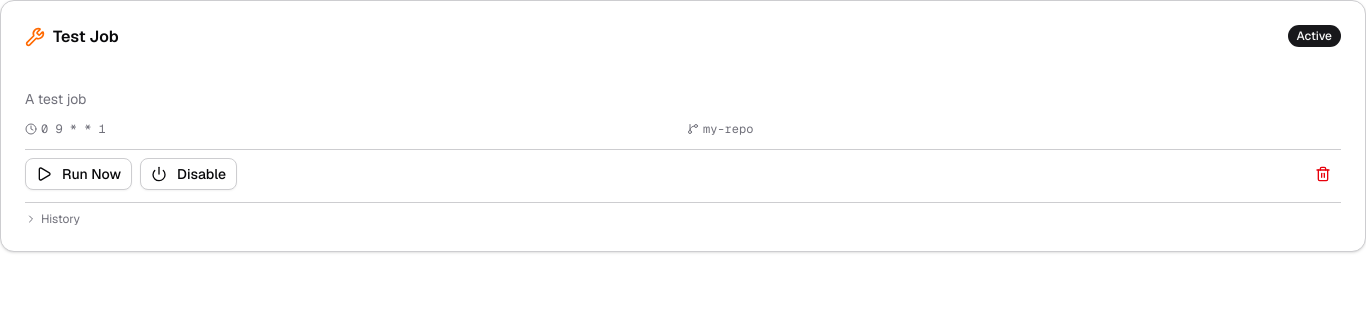
Scenario: job-card.tsx branch coverage › line 140: renders history items when available
This screenshot has width=1366, height=310.
Click the button "History" at (60, 219), box [25, 211, 1341, 227]
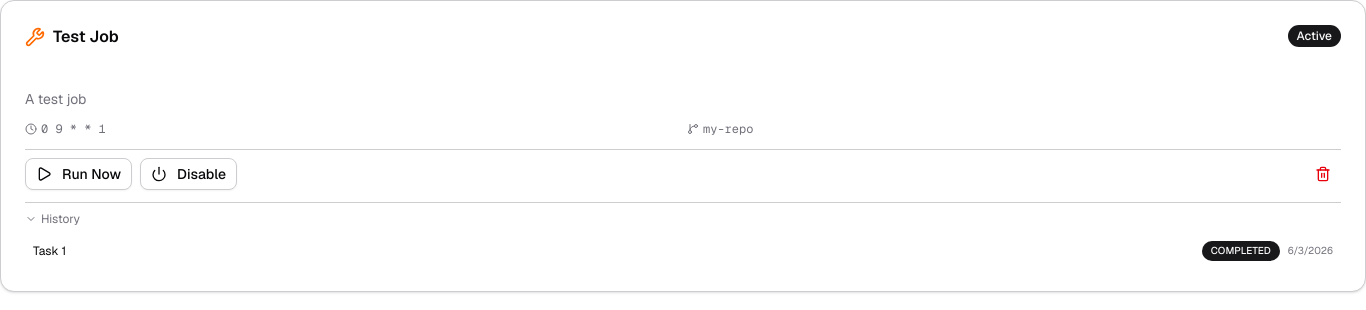
Expected: the text "Task 1" is shown, [33, 243, 66, 259]
